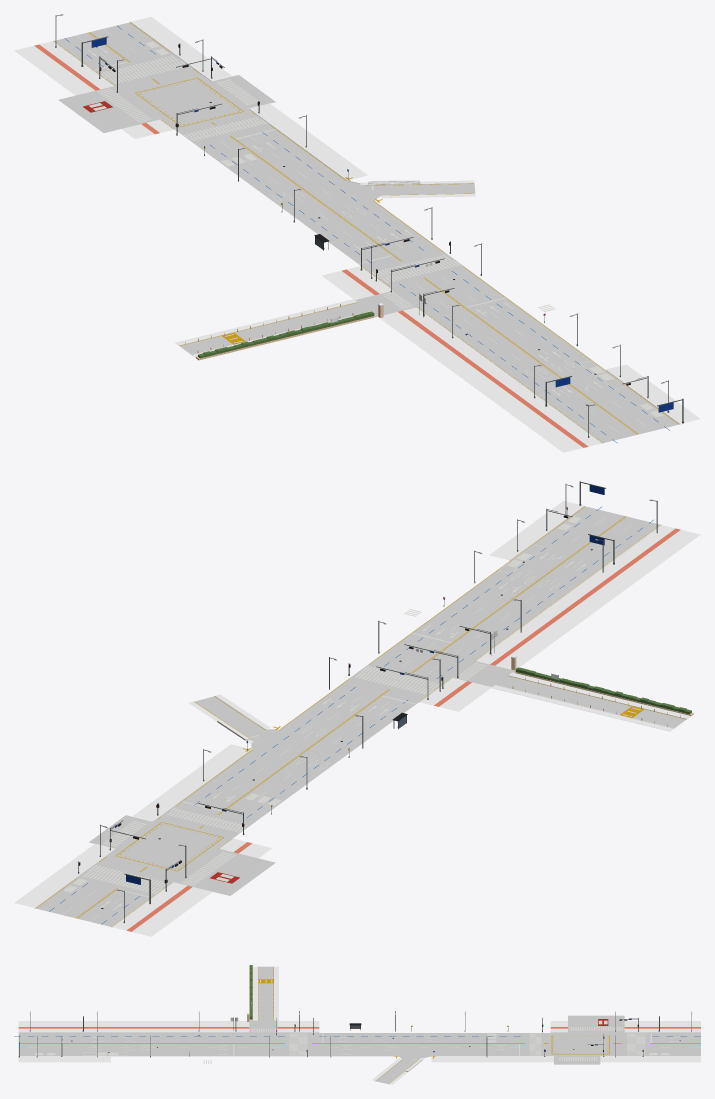
File: road_env.glb
3 views of the same model, one above another, from view 1: azimuth 30°, elevation 25°; view 2: azimuth 150°, elevation 25°; view 3: azimuth 270°, elevation 25° (orthographic). The views are drawn at different scales.
Parts seen in each view (by area): view 1: Road; view 2: Road; view 3: Road.
Part boxes in pixels (left/top/right/bottom): Road: left=14, top=14, right=700, bottom=452; Road: left=14, top=481, right=700, bottom=936; Road: left=14, top=965, right=700, bottom=1084.
Size of the model in its own units: 121 by 9.6 by 297.
